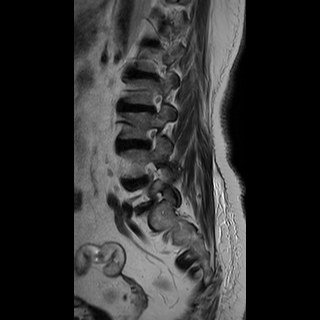LFS0: (140, 120, 163, 156), (144, 88, 168, 120)
